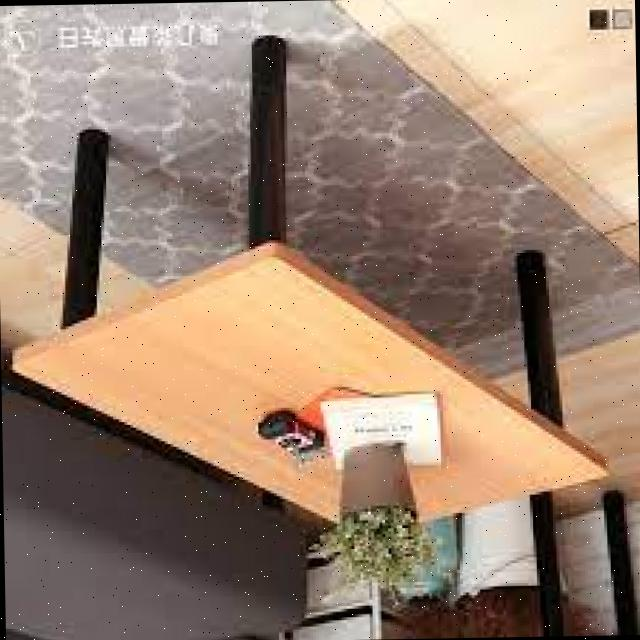Table: (0, 28, 612, 562)
